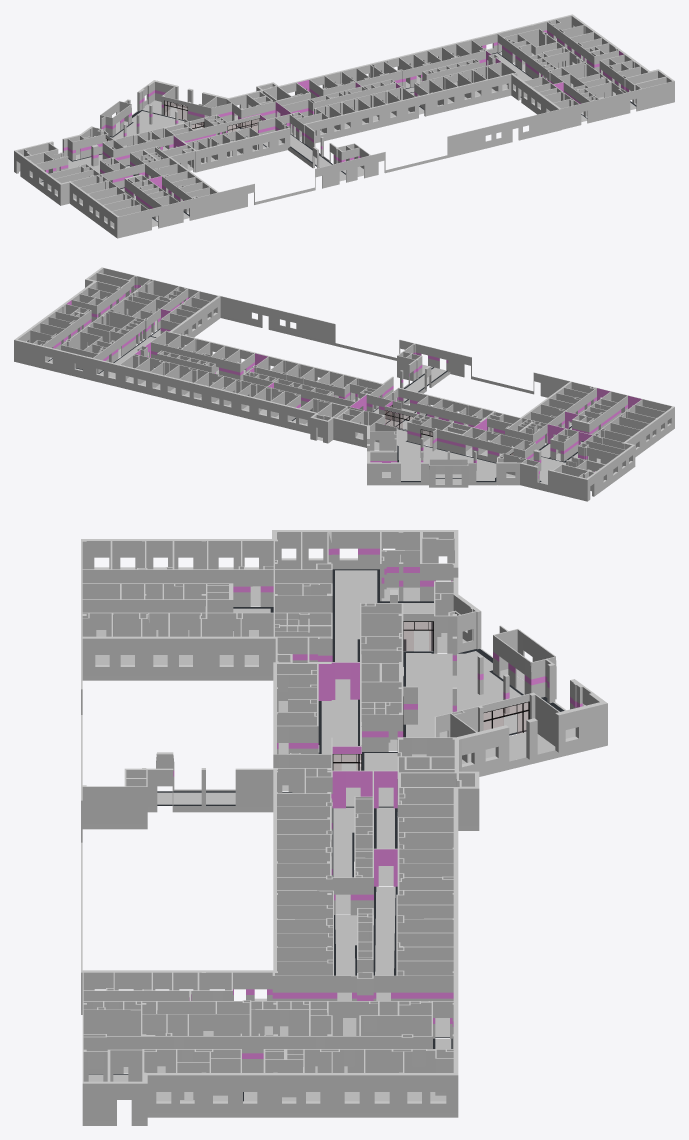
Rendered from Hall.fbx.
The picture shows the model from 3 angles, top to bottom: view 1: azimuth 30°, elevation 25°; view 2: azimuth 150°, elevation 25°; view 3: azimuth 270°, elevation 25°; orthographic projection. The views are drawn at different scales.
Parts seen in each view (by area): view 1: Plane; view 2: Plane; view 3: Plane.
Part boxes in pixels (x1,y1,x2,y2): Plane: (14,14,674,238); Plane: (14,267,674,501); Plane: (81,530,607,1125).
Bounding box in the file's own units: 13404 × 707 × 5391.
